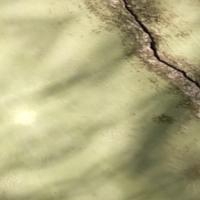crack: (109, 1, 199, 113)
